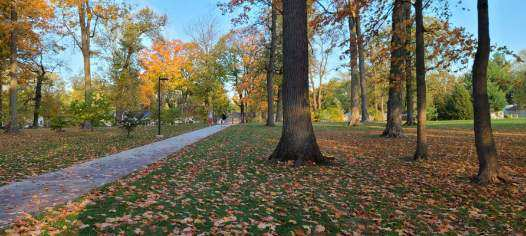tree: (269, 1, 324, 164), (470, 1, 503, 181), (384, 1, 403, 137), (413, 1, 428, 158), (5, 1, 21, 133), (83, 1, 94, 131), (266, 1, 277, 127), (347, 1, 358, 126), (406, 1, 414, 125), (360, 26, 370, 123), (31, 59, 44, 130), (238, 68, 247, 124)
